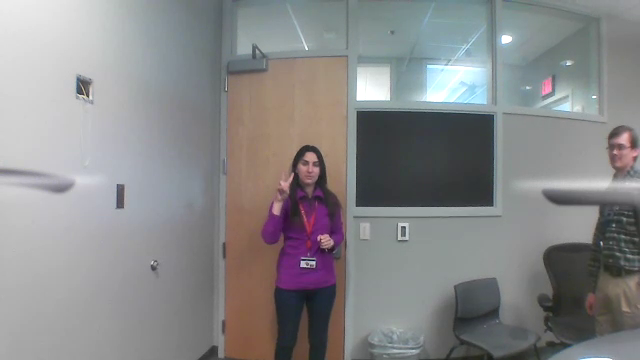peace: (272, 166, 297, 201)
